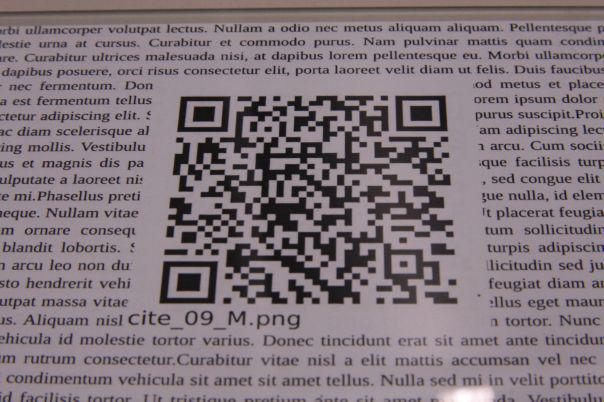Finder pattern: (155, 258, 222, 307), (175, 91, 236, 136), (391, 91, 454, 133)
